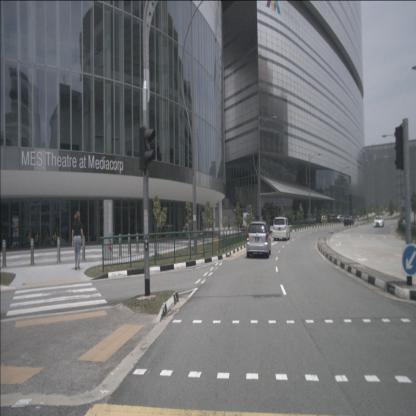human-pedestrian-adult: (72, 210, 84, 271), (228, 216, 230, 231)
vehicle-car: (247, 221, 272, 259), (273, 217, 290, 241), (164, 224, 179, 239), (374, 215, 384, 228), (336, 213, 348, 223), (318, 215, 329, 225), (344, 215, 354, 226), (328, 214, 340, 223)
